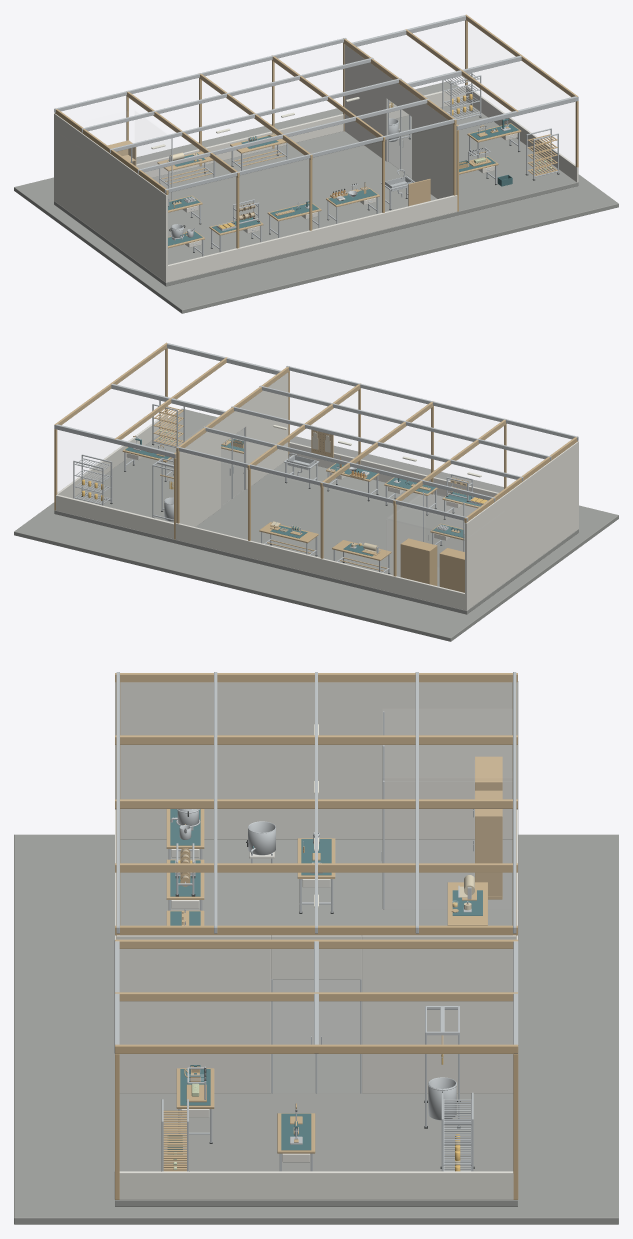
Rendered from candlemaking-and-soap-workshop-sheltered-f7ebbc7d-starter-scene__30696.glb.
The picture shows the model from 3 angles, top to bottom: view 1: azimuth 30°, elevation 25°; view 2: azimuth 150°, elevation 25°; view 3: azimuth 270°, elevation 25°; orthographic projection. The views are drawn at different scales.
Parts seen in each view (by area): view 1: 001-roofed-craft-workshop/1, 000-workshop-courtyard-base/0, 001-roofed-craft-workshop/0, 001-roofed-craft-workshop/3, 002-covered-cooling-bay/0, 001-roofed-craft-workshop/4, 001-roofed-craft-workshop/2, 002-covered-cooling-bay/2, 002-covered-cooling-bay/4, 002-covered-cooling-bay/1, 028-candle-cooling-rack/0, 037-soap-drying-rack/2 (+5 smaller); view 2: 001-roofed-craft-workshop/1, 000-workshop-courtyard-base/0, 001-roofed-craft-workshop/0, 001-roofed-craft-workshop/3, 002-covered-cooling-bay/0, 001-roofed-craft-workshop/4, 002-covered-cooling-bay/2, 001-roofed-craft-workshop/2, 002-covered-cooling-bay/1, 002-covered-cooling-bay/4, 083-finished-goods-cabinet/0, 028-candle-cooling-rack/0 (+5 smaller); view 3: 001-roofed-craft-workshop/1, 000-workshop-courtyard-base/0, 001-roofed-craft-workshop/0, 002-covered-cooling-bay/0, 001-roofed-craft-workshop/4, 002-covered-cooling-bay/1, 002-covered-cooling-bay/2, 001-roofed-craft-workshop/3, 083-finished-goods-cabinet/0, 028-candle-cooling-rack/0, 002-covered-cooling-bay/4, 037-soap-drying-rack/2 (+6 smaller).
Part boxes in pixels (bbox=[...]): 001-roofed-craft-workshop/1: bbox=[54, 44, 457, 282]; 000-workshop-courtyard-base/0: bbox=[14, 80, 618, 313]; 001-roofed-craft-workshop/0: bbox=[54, 131, 457, 286]; 001-roofed-craft-workshop/3: bbox=[54, 38, 456, 200]; 002-covered-cooling-bay/0: bbox=[389, 101, 578, 215]; 001-roofed-craft-workshop/4: bbox=[55, 38, 456, 248]; 001-roofed-craft-workshop/2: bbox=[78, 109, 171, 200]; 002-covered-cooling-bay/2: bbox=[389, 86, 578, 182]; 002-covered-cooling-bay/4: bbox=[351, 15, 578, 130]; 002-covered-cooling-bay/1: bbox=[405, 14, 578, 211]; 028-candle-cooling-rack/0: bbox=[442, 72, 481, 120]; 037-soap-drying-rack/2: bbox=[527, 134, 557, 176]; 001-roofed-craft-workshop/1: bbox=[175, 372, 578, 610]; 000-workshop-courtyard-base/0: bbox=[14, 408, 618, 641]; 001-roofed-craft-workshop/0: bbox=[175, 461, 578, 614]; 001-roofed-craft-workshop/3: bbox=[176, 366, 578, 551]; 002-covered-cooling-bay/0: bbox=[54, 430, 243, 543]; 001-roofed-craft-workshop/4: bbox=[176, 366, 577, 576]; 002-covered-cooling-bay/2: bbox=[56, 414, 173, 539]; 001-roofed-craft-workshop/2: bbox=[387, 493, 479, 566]; 002-covered-cooling-bay/1: bbox=[54, 342, 227, 539]; 002-covered-cooling-bay/4: bbox=[54, 343, 281, 458]; 083-finished-goods-cabinet/0: bbox=[400, 538, 437, 585]; 028-candle-cooling-rack/0: bbox=[73, 454, 112, 505]; 001-roofed-craft-workshop/1: bbox=[115, 681, 518, 1093]; 000-workshop-courtyard-base/0: bbox=[14, 834, 618, 1224]; 001-roofed-craft-workshop/0: bbox=[120, 839, 512, 1093]; 002-covered-cooling-bay/0: bbox=[115, 1093, 517, 1206]; 001-roofed-craft-workshop/4: bbox=[115, 673, 517, 939]; 002-covered-cooling-bay/1: bbox=[115, 939, 518, 1199]; 002-covered-cooling-bay/2: bbox=[114, 1171, 513, 1199]; 001-roofed-craft-workshop/3: bbox=[116, 672, 516, 1093]; 083-finished-goods-cabinet/0: bbox=[475, 790, 502, 899]; 028-candle-cooling-rack/0: bbox=[441, 1092, 473, 1171]; 002-covered-cooling-bay/4: bbox=[114, 940, 518, 1053]; 037-soap-drying-rack/2: bbox=[163, 1110, 186, 1171].
Bounding box in the file's own units: 18 × 3.97 × 12.
